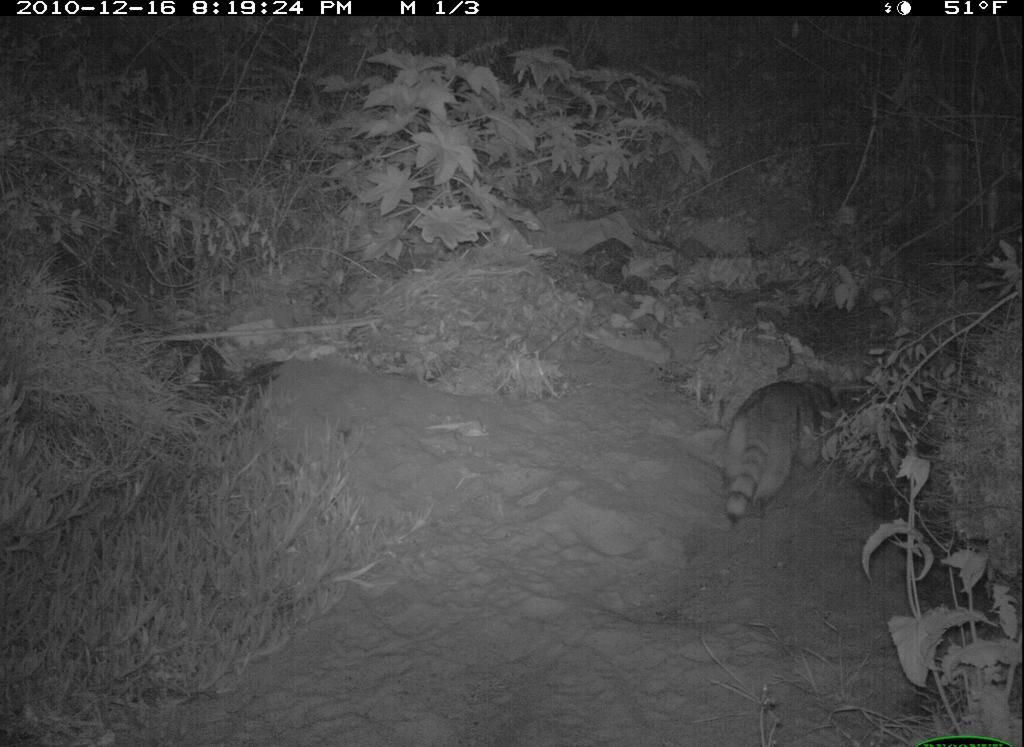raccoon: (717, 372, 843, 525)
